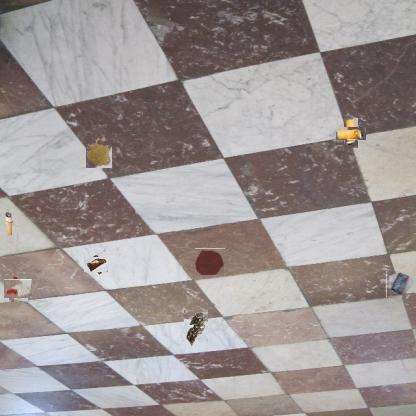dirty: (184, 310, 208, 348), (386, 272, 415, 298), (7, 277, 30, 300), (340, 122, 362, 144), (86, 254, 106, 274), (2, 210, 14, 236)
liquid: (86, 138, 112, 170), (196, 248, 226, 275)
